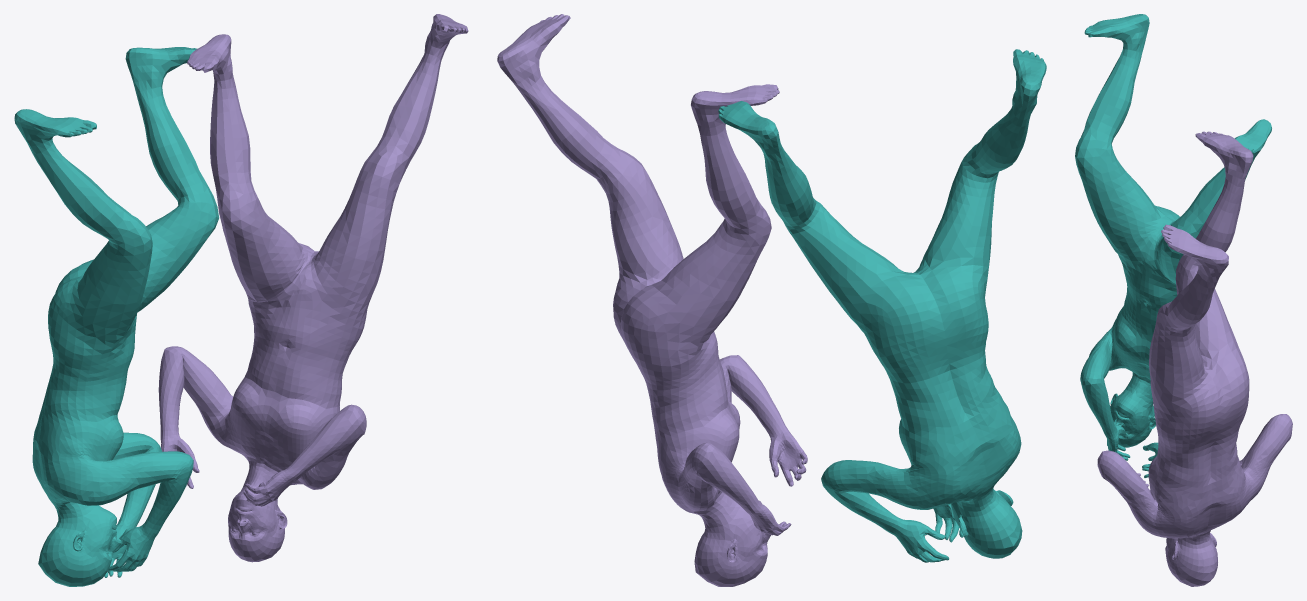
The model's file is all_people_native_world.glb.
3 views of the same model, side by side, from view 1: azimuth 30°, elevation 25°; view 2: azimuth 150°, elevation 25°; view 3: azimuth 270°, elevation 25° (orthographic). The views are drawn at different scales.
Visible parts, largest first — view 1: persistent_id_2_slot_0, persistent_id_1_slot_1; view 2: persistent_id_1_slot_1, persistent_id_2_slot_0; view 3: persistent_id_2_slot_0, persistent_id_1_slot_1.
Part boxes in pixels (x1,y1,x2,y2): persistent_id_2_slot_0: (158, 14, 468, 562); persistent_id_1_slot_1: (14, 47, 219, 586); persistent_id_1_slot_1: (718, 49, 1046, 562); persistent_id_2_slot_0: (497, 14, 807, 586); persistent_id_2_slot_0: (1097, 131, 1292, 586); persistent_id_1_slot_1: (1075, 14, 1271, 477).
Size of the model in its own units: 1.6 by 1.7 by 0.7305.
